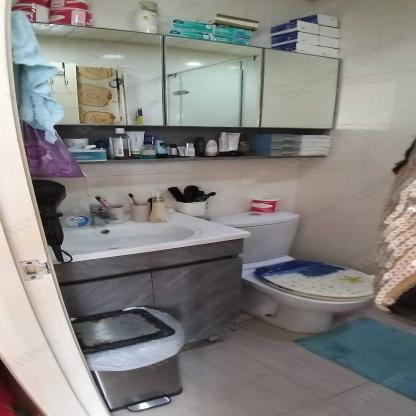Faucet: (84, 204, 118, 227)
Toilet: (207, 210, 385, 332)
Toilet Sink: (42, 212, 251, 264)
